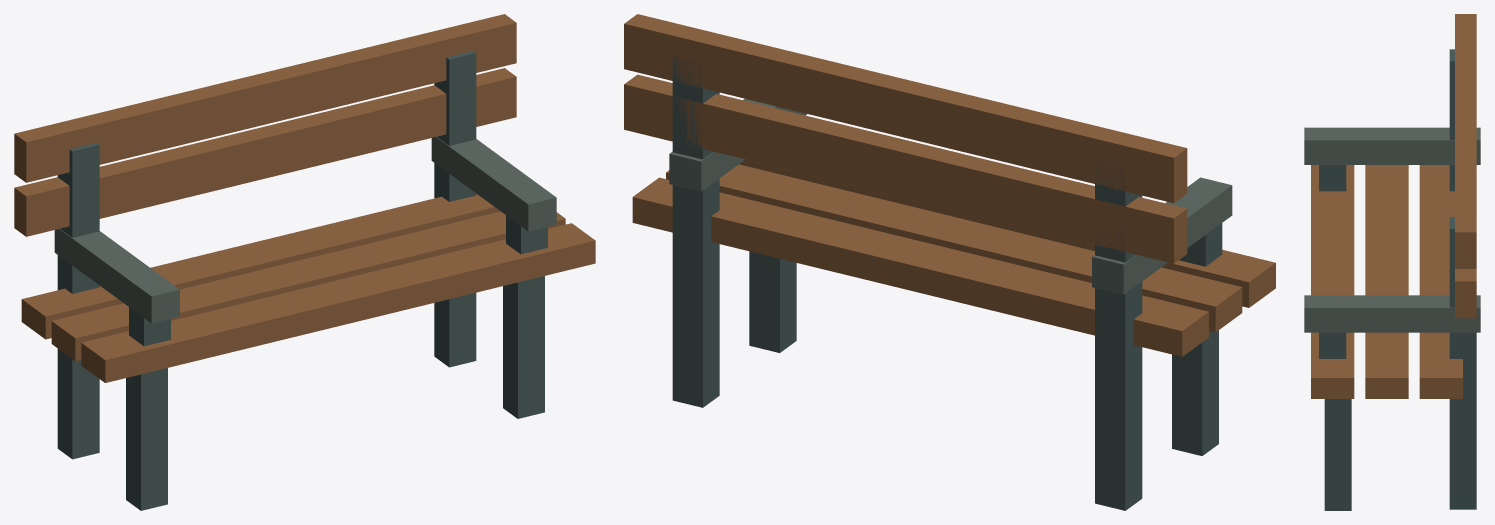
File: sunday-bench.glb
3 renders of one model, left to right at view 1: azimuth 30°, elevation 25°; view 2: azimuth 150°, elevation 25°; view 3: azimuth 270°, elevation 25°, orthographic. The views are drawn at different scales.
Parts seen in each view (by area): view 1: bench; view 2: bench; view 3: bench.
Part boxes in pixels (x1,y1,x2,y2): bench: (14, 14, 595, 510); bench: (624, 14, 1275, 510); bench: (1304, 14, 1480, 510).
Bounding box in the file's own units: 1.9 × 1.21 × 0.65.
